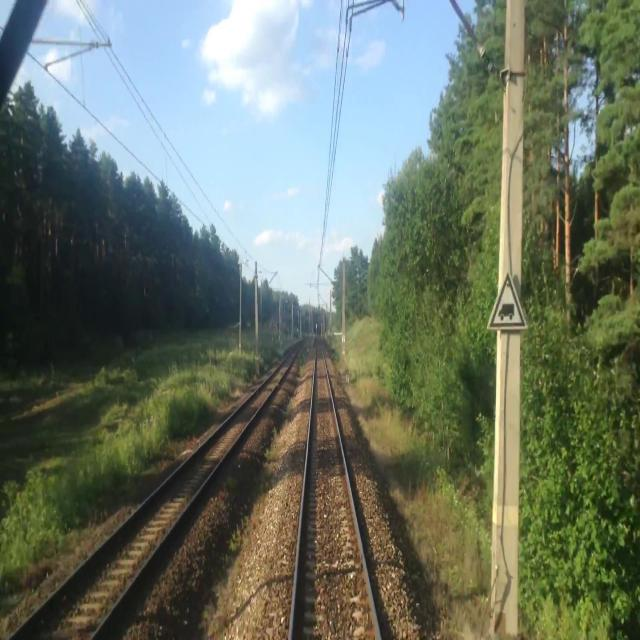rail-track: (13, 351, 295, 639), (293, 345, 377, 639)
